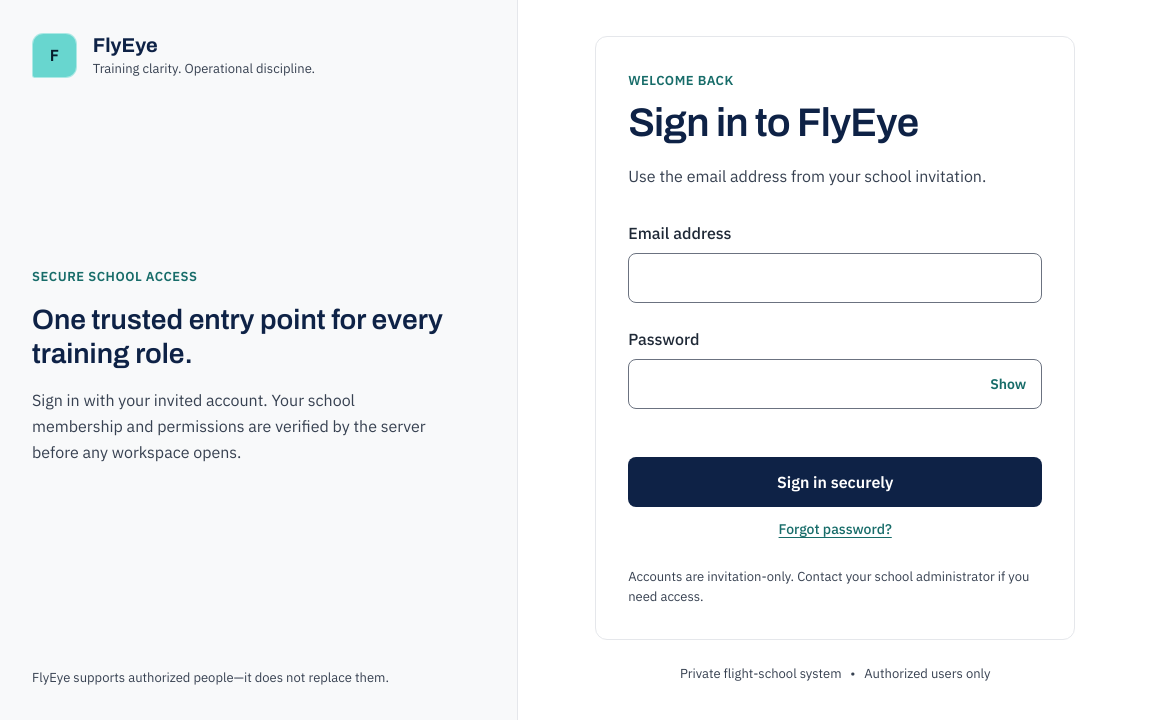
Test: FEAT-001 authentication UI › routes a privileged member without TOTP to self-service enrollment
This screenshot has width=1152, height=720.
Expected: the heading "Sign in to FlyEye" is shown, [628,101,918,144]
Type "student@example.test" into the field labelled "Email address" at {"x": 835, "y": 278}, box [628,253,1042,303]
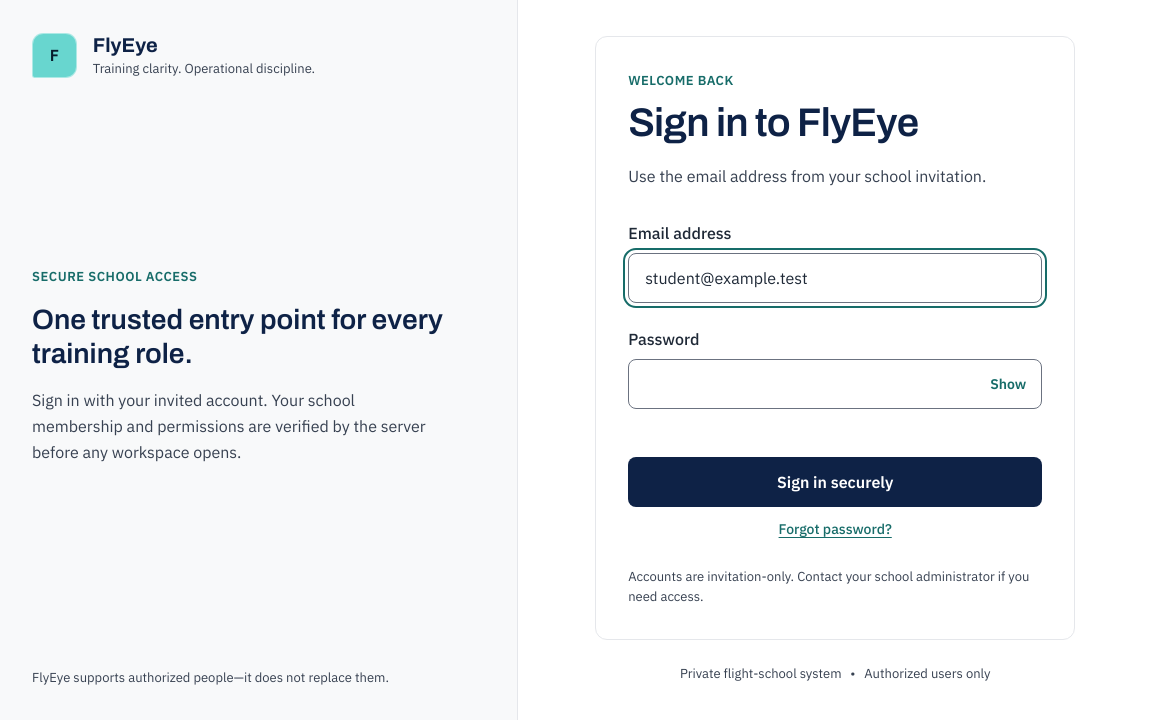
Type "NotARealPassword1!" into the password field labelled "Password" at {"x": 835, "y": 384}, box [628,359,1042,409]
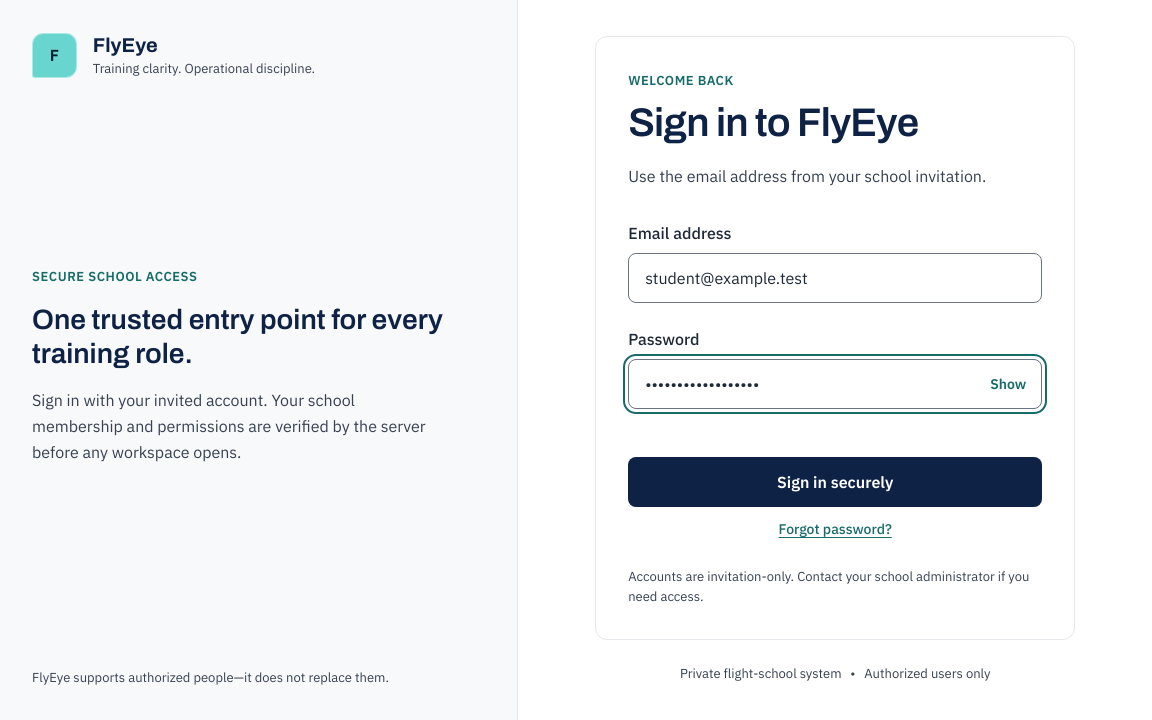
Click the button "Sign in securely" at {"x": 835, "y": 482}, box [628,457,1042,507]
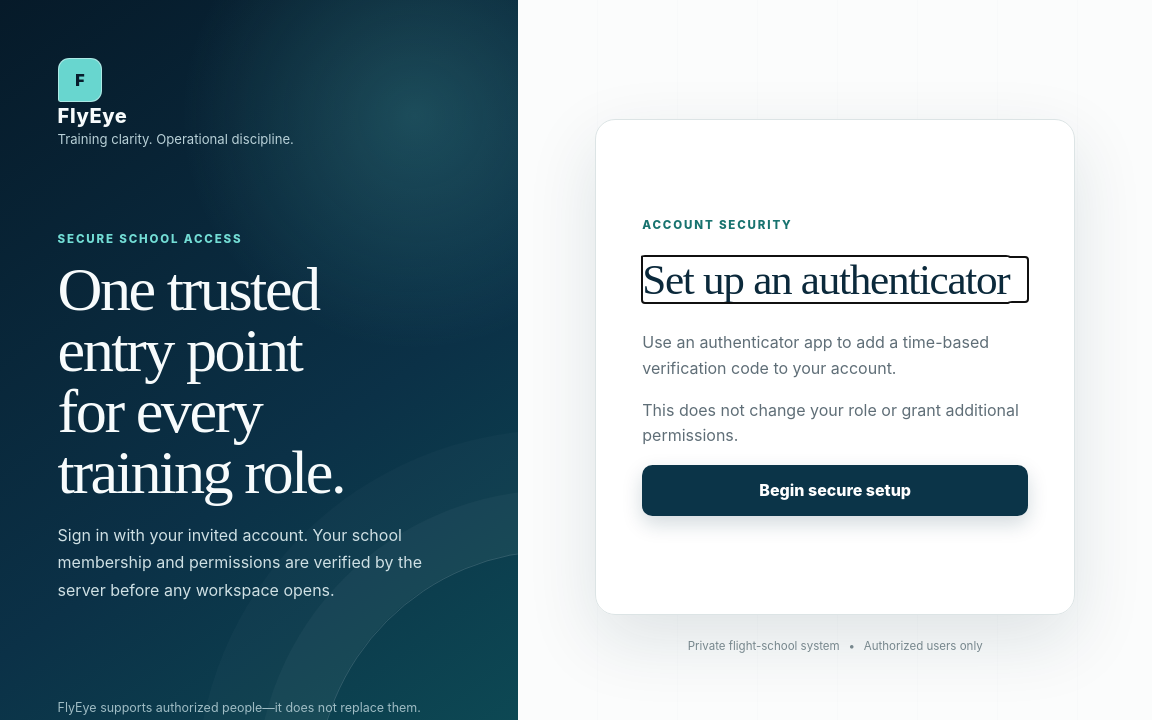
Now the heading "Set up an authenticator" is shown, box [642,257,1028,302]
Now the button "Begin secure setup" is shown, box [642,465,1028,516]
